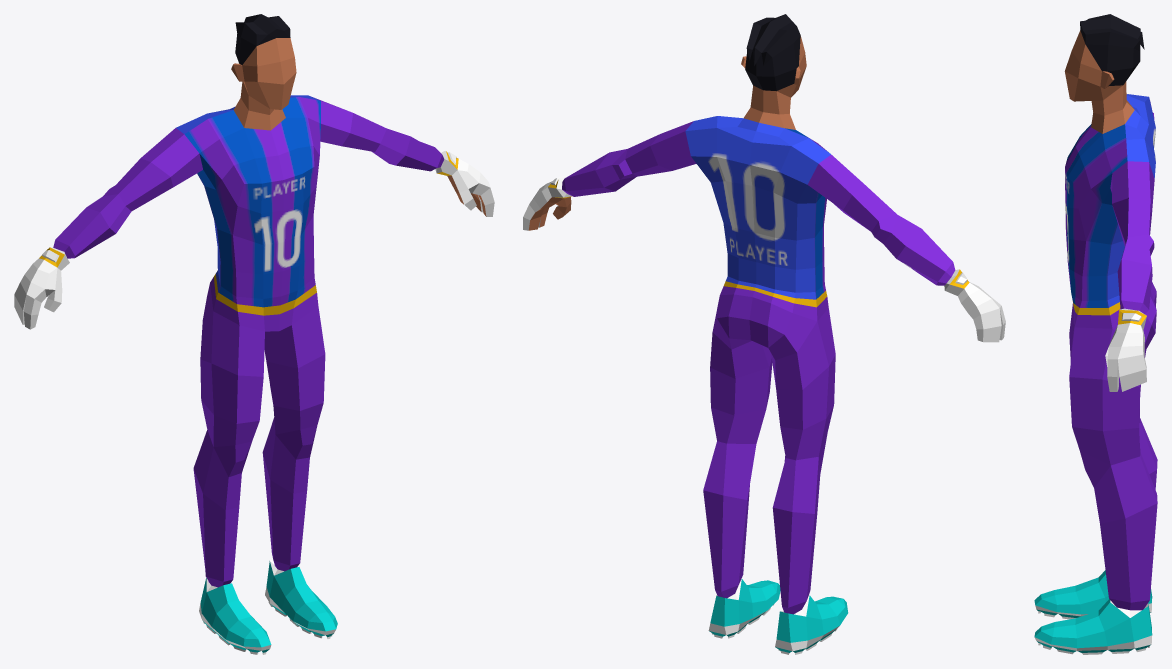
Rendered from SoccerManC.gltf.
3 renders of one model, left to right at view 1: azimuth 30°, elevation 25°; view 2: azimuth 150°, elevation 25°; view 3: azimuth 270°, elevation 25°, orthographic.
Parts seen in each view (by area): view 1: Soccer Man C; view 2: Soccer Man C; view 3: Soccer Man C.
Part boxes in pixels (left/top/right/bottom): Soccer Man C: left=14, top=14, right=494, bottom=654; Soccer Man C: left=523, top=14, right=1005, bottom=654; Soccer Man C: left=1034, top=14, right=1157, bottom=654.
Size of the model in its own units: 1.36 by 1.69 by 0.3072.
Materials: 1 (1 with a texture image).
